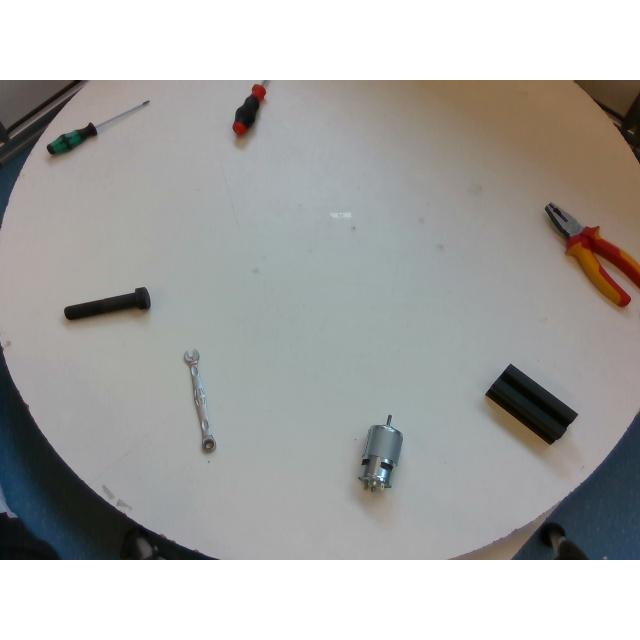M20_100: (66, 287, 150, 319)
Motor2: (359, 414, 403, 490)
S40_40_B: (485, 364, 577, 444)
Screwdriver: (47, 98, 149, 154)
Wrench: (184, 348, 216, 452)
